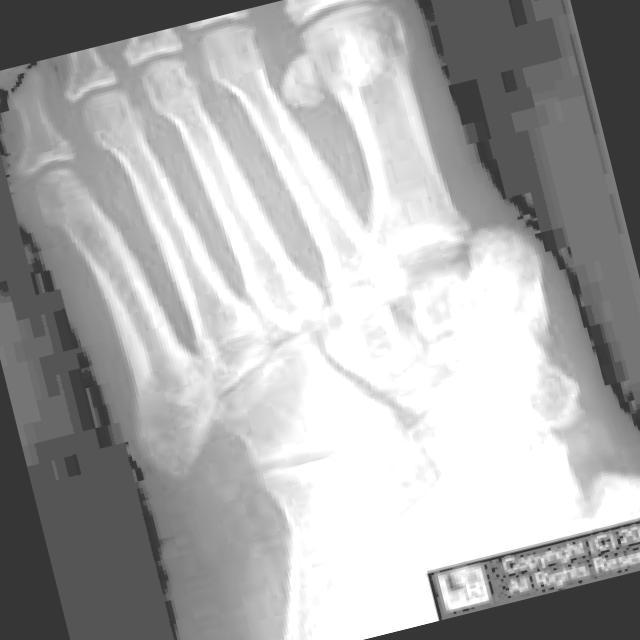Fracture Dislocation: (137, 377, 242, 479), (311, 264, 424, 326)
